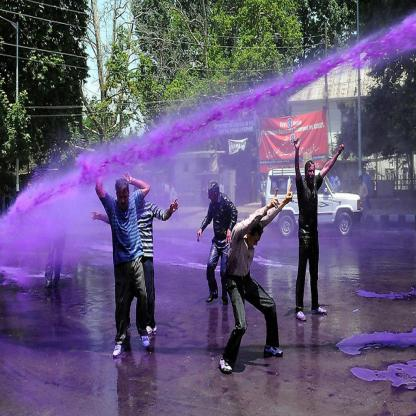face: (119, 187, 131, 210), (250, 233, 262, 250), (308, 163, 316, 183), (209, 187, 216, 205), (360, 178, 363, 185), (334, 170, 337, 177), (221, 179, 224, 184)
